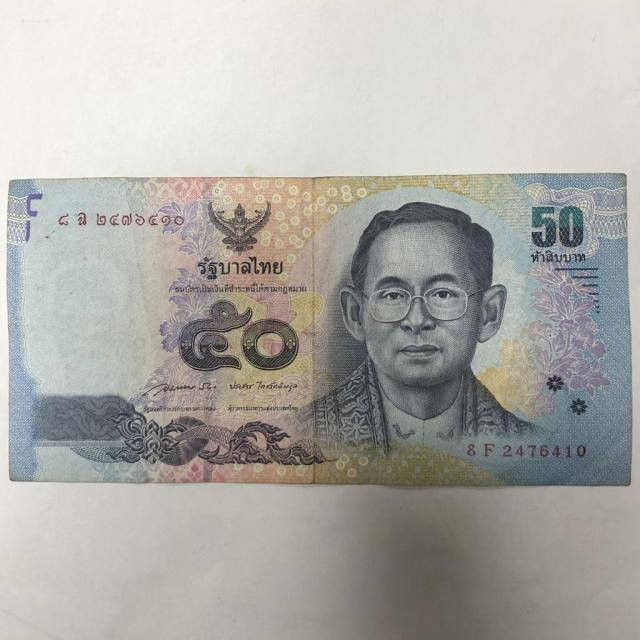THAI50: (7, 172, 633, 487)
